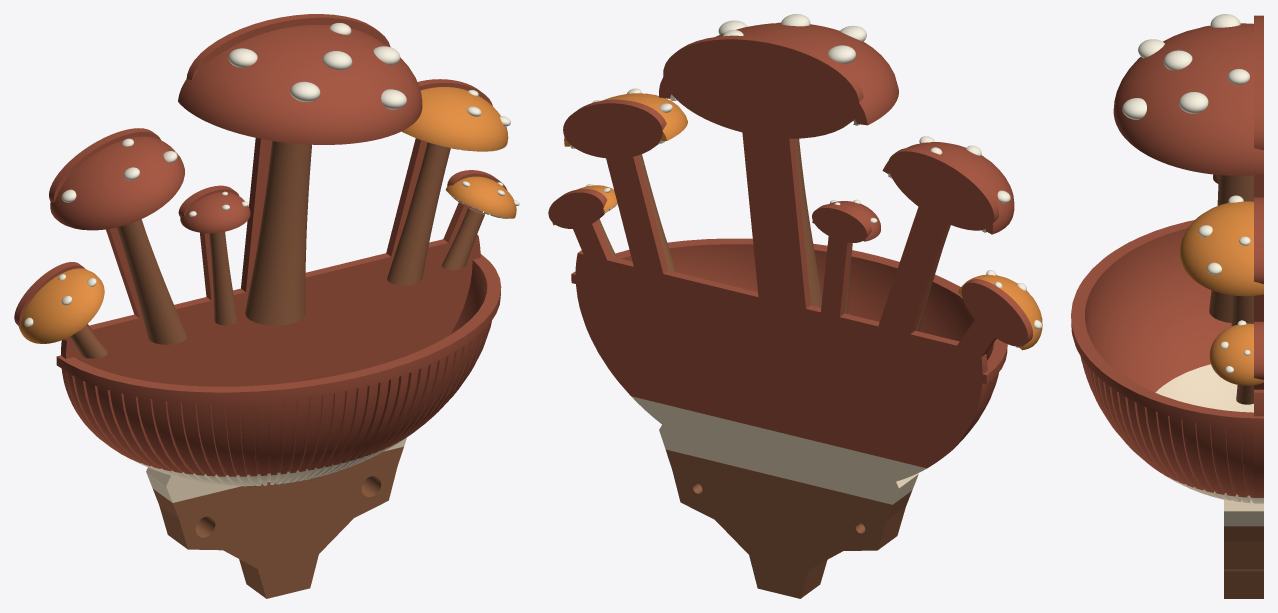
File: mushroom_planter_fungus.glb
The picture shows the model from 3 angles, left to right: view 1: azimuth 30°, elevation 25°; view 2: azimuth 150°, elevation 25°; view 3: azimuth 270°, elevation 25°; orthographic projection.
Visible parts, largest first — view 1: mushroom_planter_fungus (×5); view 2: mushroom_planter_fungus (×5); view 3: mushroom_planter_fungus (×5).
Boxes of the visible parts, box(x1,y1,x2,y2) form: mushroom_planter_fungus (×5): box(14, 14, 519, 598); mushroom_planter_fungus (×5): box(548, 14, 1042, 598); mushroom_planter_fungus (×5): box(1071, 14, 1263, 598).
Size of the model in its own units: 0.2246 by 0.2446 by 0.077.
